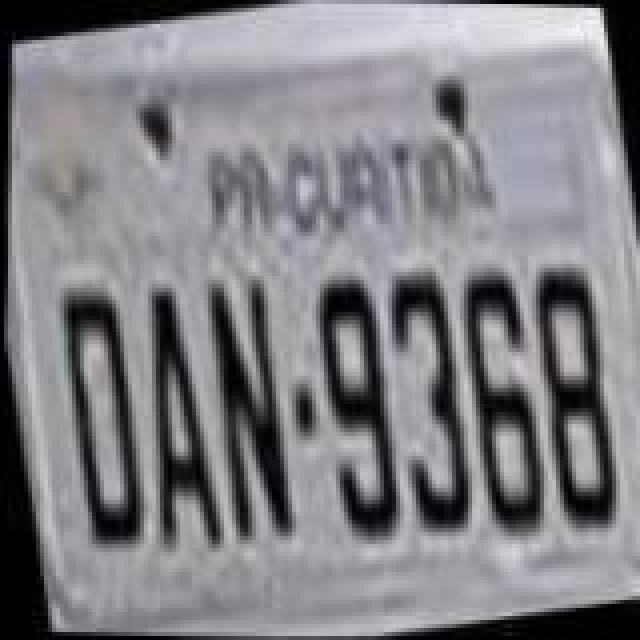3: (364, 260, 488, 544)
6: (436, 256, 560, 544)
8: (506, 252, 634, 540)
9: (290, 266, 414, 550)
A: (106, 276, 230, 560)
D: (34, 276, 158, 556)
N: (186, 270, 310, 554)
